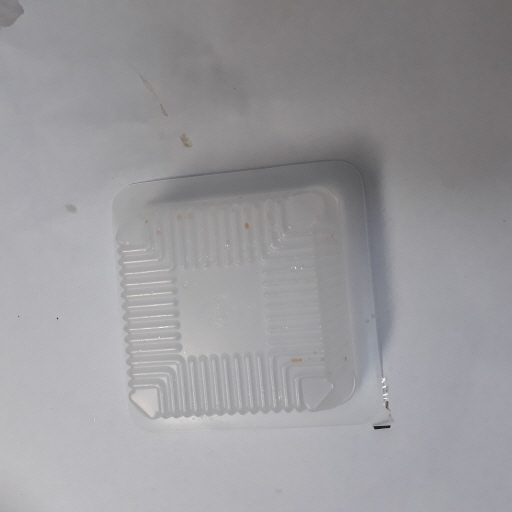Plastic_4: (107, 159, 394, 439)
